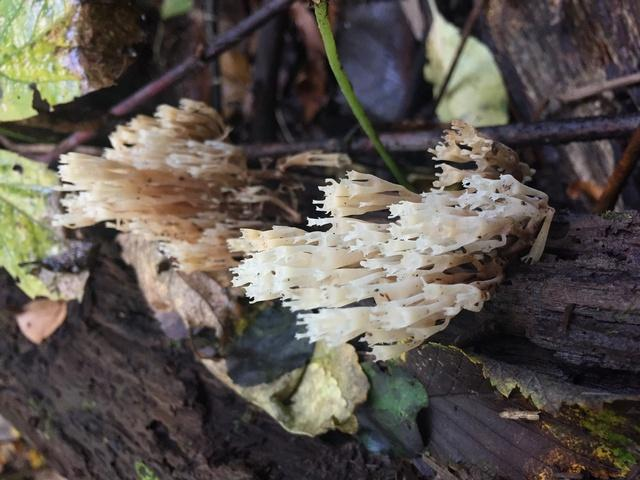edible_mushroom: (225, 118, 555, 363), (58, 96, 237, 264)
